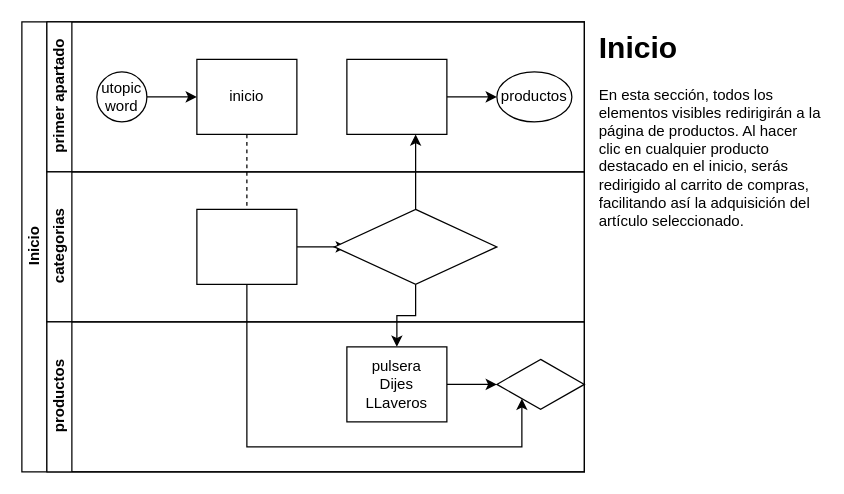
Image size: 844x494. Some labels were removed from this diagram. Each missing label, with the centre of its shape:
carrito: [540,383]
dividido por categorias: [396,96]
productos importantes: [415,246]
resumen del sitio web: [246,246]
